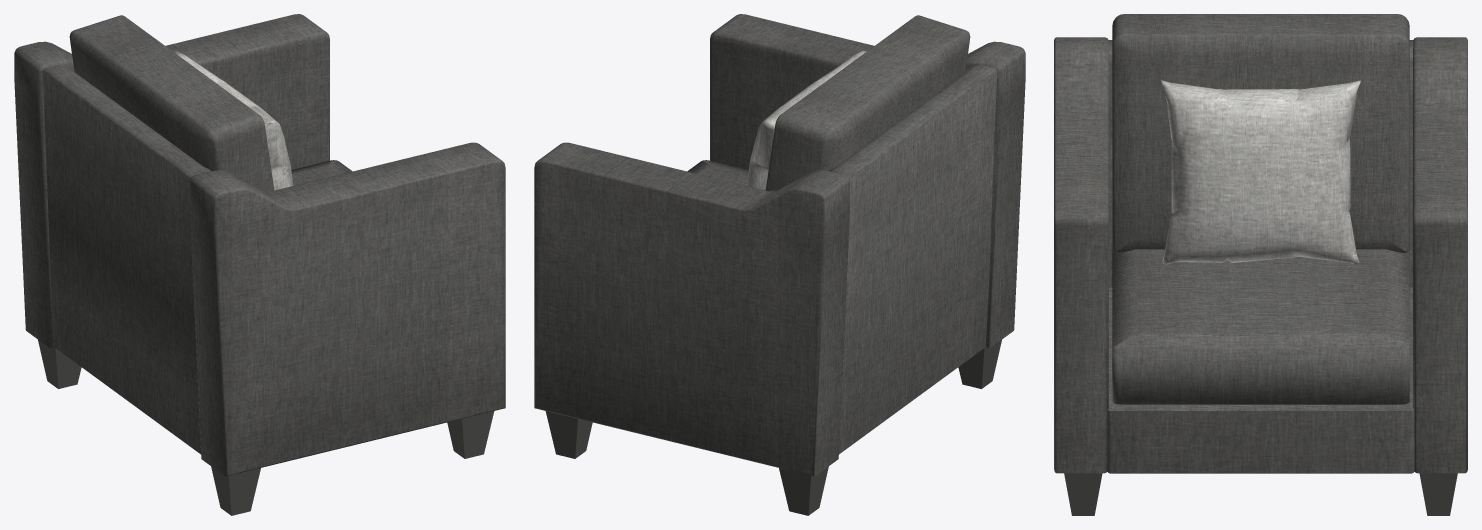
The model's file is Chair.glb.
3 renders of one model, left to right at view 1: azimuth 30°, elevation 25°; view 2: azimuth 150°, elevation 25°; view 3: azimuth 270°, elevation 25°, orthographic. The views are drawn at different scales.
Visible parts, largest first — view 1: Chair; view 2: Chair; view 3: Chair.
Part boxes in pixels (x1,y1,x2,y2): Chair: (14,14,505,515); Chair: (534,14,1025,515); Chair: (1054,14,1467,515).
Size of the model in its own units: 1.33 by 1.6 by 1.58.
Materials: 1 (1 with a texture image).
